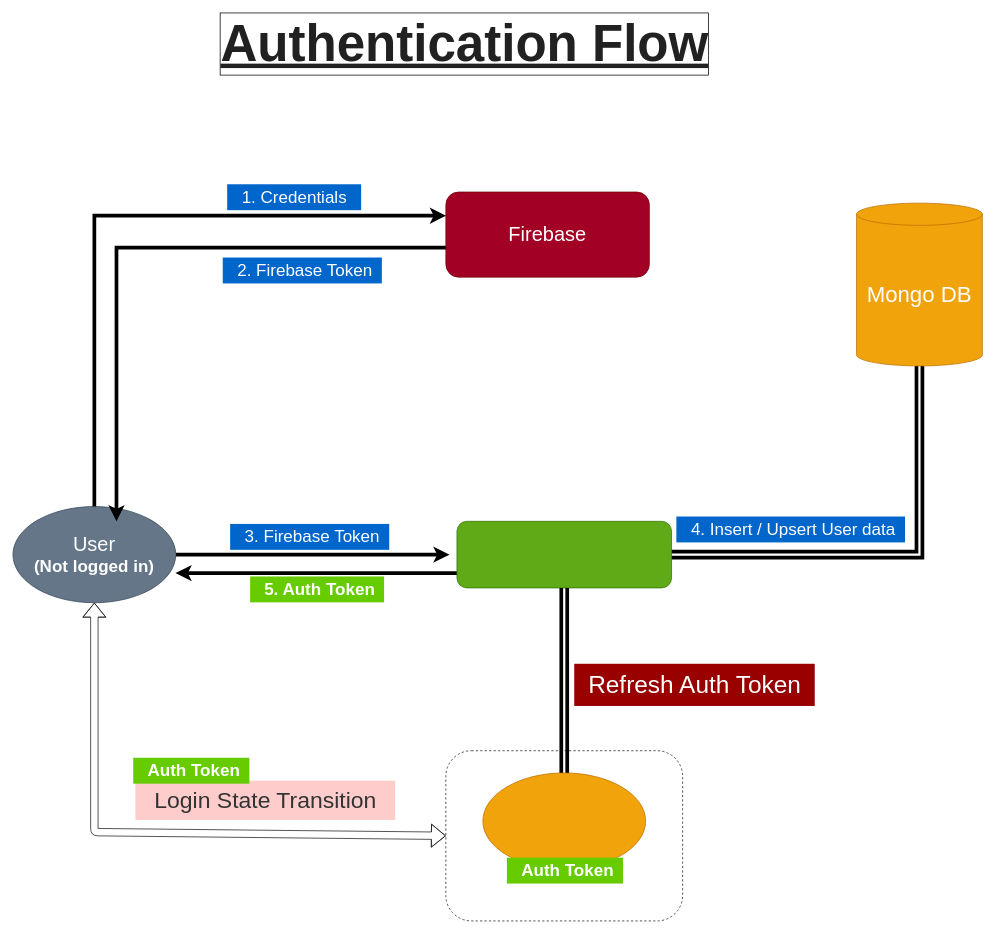
The diagram is 995 pixels wide and 934 high, and some of its shapes have lost their labels. Here are the shapes that lost their labels. From the top down, the box of each, then its label:
(456, 521, 672, 588): Auth µService
(482, 772, 646, 869): User (Logged in)
